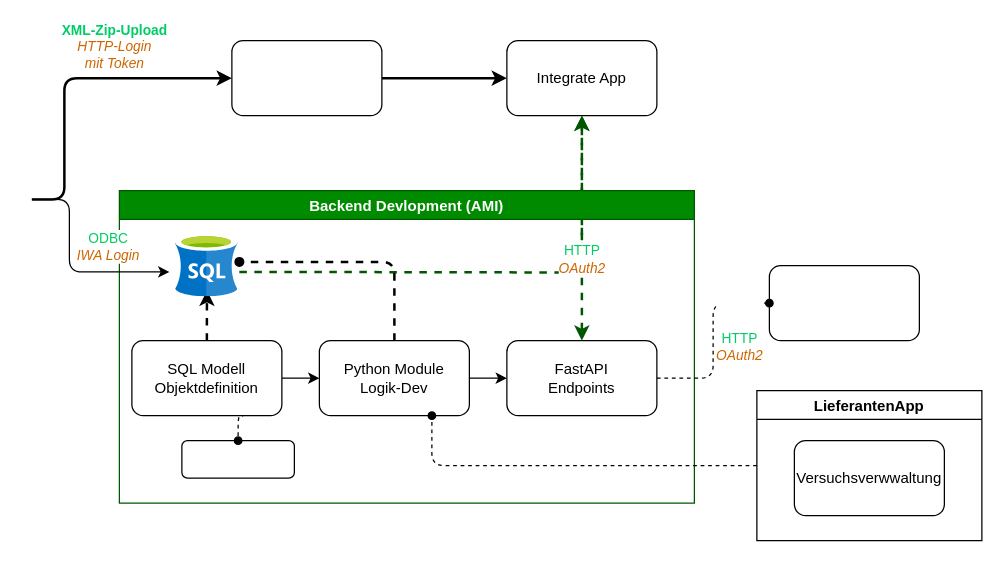
Image size: 1004x563. Some labels were removed from this diagram. The box of each missing label's shape, as (x1, y1, x2, y2) in pixels:
(ASAM ATFX): (181, 439, 294, 478)
(CAE-Bench): (231, 39, 382, 116)
div. Frontend auch lokale Möglichkeiten: (768, 264, 919, 341)
